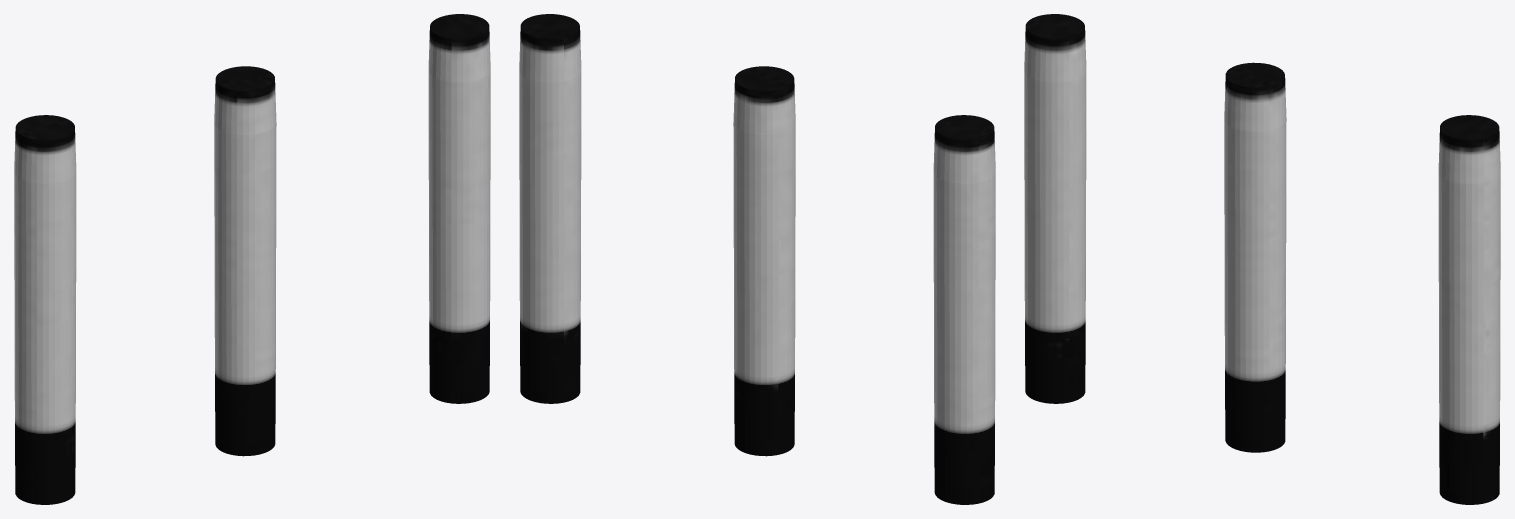
File: marker pen.fbx
3 views of the same model, side by side, from view 1: azimuth 30°, elevation 25°; view 2: azimuth 150°, elevation 25°; view 3: azimuth 330°, elevation 25° (orthographic).
Visible parts, largest first — view 1: marker pen, marker pen.002, marker pen.001; view 2: marker pen, marker pen.002, marker pen.001; view 3: marker pen.002, marker pen.001, marker pen.
Boxes of the visible parts, bbox=[...] form: marker pen: bbox=[14, 115, 76, 504]; marker pen.002: bbox=[214, 66, 276, 456]; marker pen.001: bbox=[428, 14, 490, 403]; marker pen: bbox=[933, 115, 995, 504]; marker pen.002: bbox=[733, 66, 795, 456]; marker pen.001: bbox=[519, 14, 581, 403]; marker pen.002: bbox=[1224, 62, 1286, 452]; marker pen.001: bbox=[1438, 115, 1500, 504]; marker pen: bbox=[1024, 14, 1086, 403].
Size of the model in its own units: 18.81 by 14 by 2.13.
